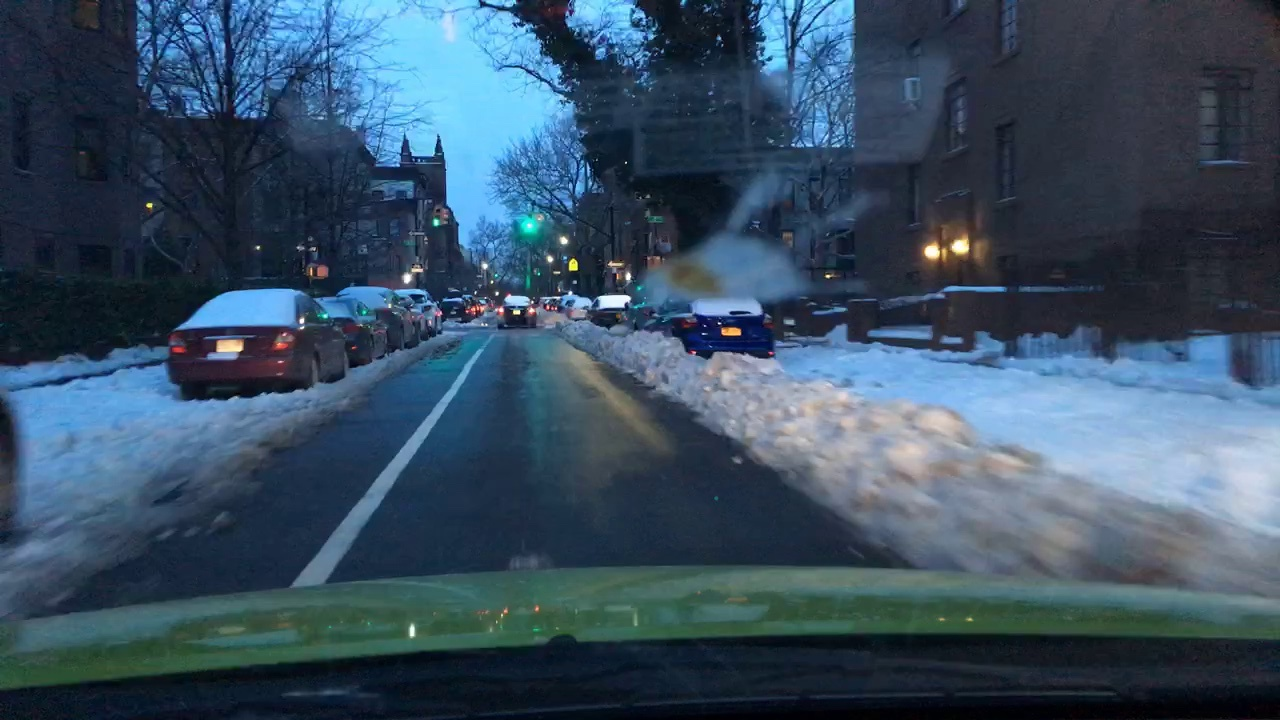car: (168, 285, 352, 396), (647, 295, 776, 363), (311, 293, 390, 365), (494, 292, 541, 332)
traffic light: (518, 210, 540, 246)
